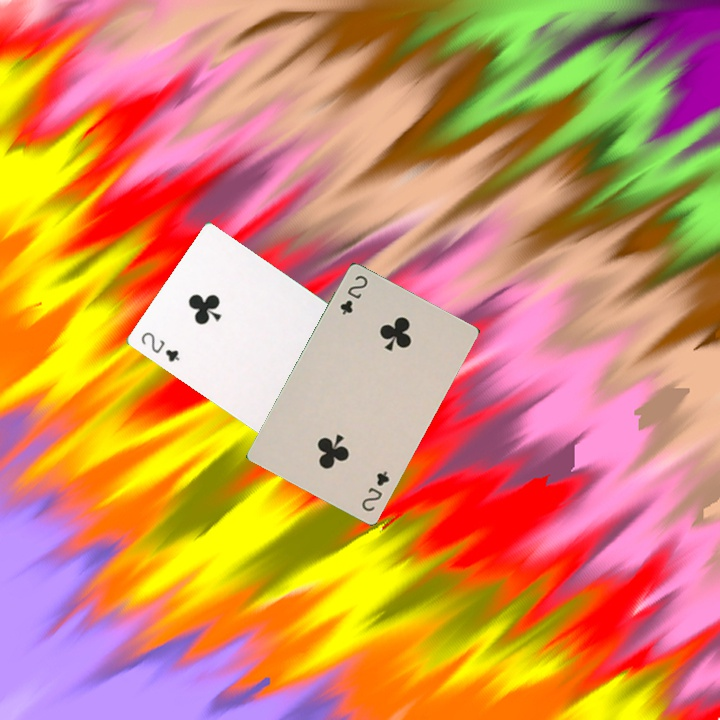2c: (357, 467, 392, 514), (137, 328, 182, 364), (336, 271, 370, 318)
